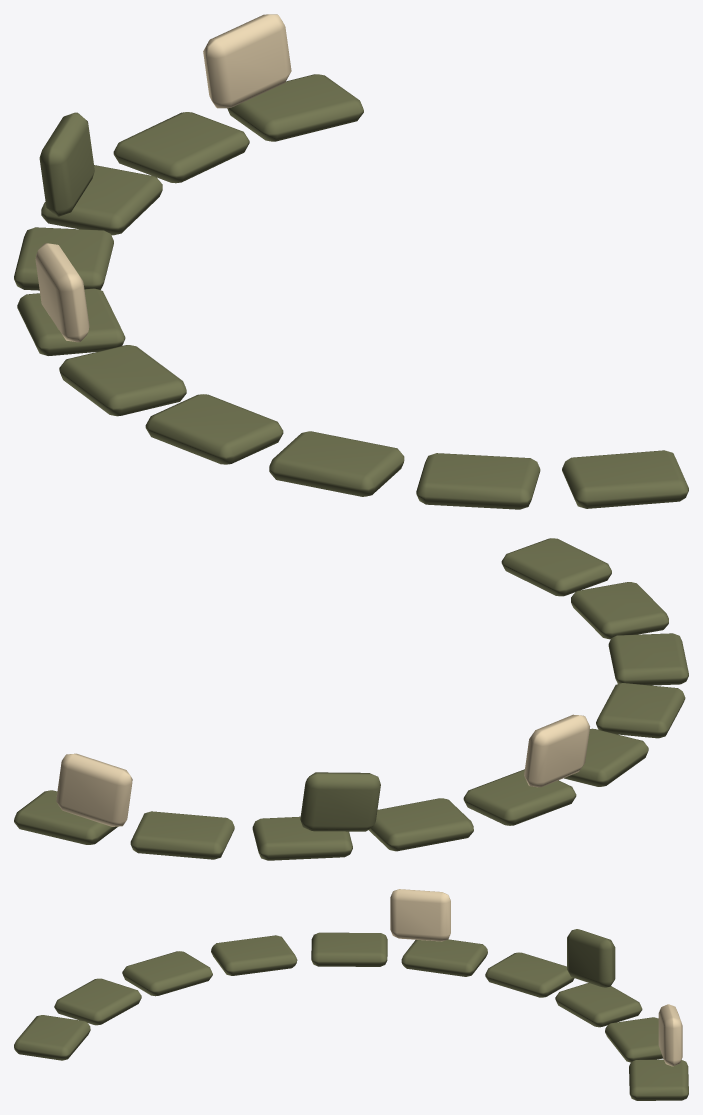
The picture shows the model from 3 angles, top to bottom: view 1: azimuth 30°, elevation 25°; view 2: azimuth 150°, elevation 25°; view 3: azimuth 270°, elevation 25°; orthographic projection. The views are drawn at different scales.
Visible parts, largest first — view 1: Mesh_MossCushion_3, Mesh_MossCushion_2, Mesh_MossCushion_8, Mesh_LinenPillow_2, Mesh_MossCushion_1, Mesh_MossCushion_0, Mesh_MossCushion_4, Mesh_MossCushion_9, Mesh_MossCushion_7, Mesh_LinenPillow_1, Mesh_MossCushion_6, Mesh_MossCushion_5 (+1 smaller); view 2: Mesh_LinenPillow_1, Mesh_LinenPillow_2, Mesh_MossCushion_0, Mesh_MossCushion_8, Mesh_MossCushion_6, Mesh_MossCushion_1, Mesh_MossCushion_3, Mesh_MossCushion_5, Mesh_MossCushion_2, Mesh_LinenPillow_0, Mesh_MossCushion_7, Mesh_MossCushion_9 (+1 smaller); view 3: Mesh_LinenPillow_0, Mesh_MossCushion_2, Mesh_MossCushion_3, Mesh_MossCushion_1, Mesh_MossCushion_6, Mesh_MossCushion_4, Mesh_MossCushion_7, Mesh_MossCushion_5, Mesh_MossCushion_0, Mesh_LinenPillow_1, Mesh_MossCushion_9, Mesh_MossCushion_8 (+1 smaller).
Boxes of the visible parts, x1=… form: Mesh_MossCushion_3: x1=145, y1=394, x2=283, y2=464; Mesh_MossCushion_2: x1=269, y1=431, x2=404, y2=496; Mesh_MossCushion_8: x1=113, y1=112, x2=249, y2=183; Mesh_LinenPillow_2: x1=203, y1=14, x2=291, y2=108; Mesh_MossCushion_1: x1=416, y1=453, x2=540, y2=509; Mesh_MossCushion_0: x1=562, y1=450, x2=688, y2=508; Mesh_MossCushion_4: x1=59, y1=345, x2=186, y2=416; Mesh_MossCushion_9: x1=227, y1=74, x2=363, y2=141; Mesh_MossCushion_7: x1=41, y1=165, x2=162, y2=235; Mesh_LinenPillow_1: x1=39, y1=112, x2=94, y2=216; Mesh_MossCushion_6: x1=14, y1=227, x2=113, y2=290; Mesh_MossCushion_5: x1=17, y1=288, x2=125, y2=355; Mesh_LinenPillow_1: x1=300, y1=772, x2=380, y2=831; Mesh_LinenPillow_2: x1=56, y1=753, x2=132, y2=826; Mesh_MossCushion_0: x1=501, y1=538, x2=611, y2=596; Mesh_MossCushion_8: x1=130, y1=811, x2=234, y2=859; Mesh_MossCushion_6: x1=369, y1=798, x2=473, y2=851; Mesh_MossCushion_1: x1=571, y1=582, x2=668, y2=639; Mesh_MossCushion_3: x1=596, y1=683, x2=685, y2=738; Mesh_MossCushion_5: x1=463, y1=769, x2=576, y2=825; Mesh_MossCushion_2: x1=608, y1=633, x2=688, y2=685; Mesh_LinenPillow_0: x1=524, y1=714, x2=589, y2=787; Mesh_MossCushion_7: x1=252, y1=816, x2=352, y2=860; Mesh_MossCushion_9: x1=14, y1=790, x2=117, y2=844; Mesh_LinenPillow_0: x1=390, y1=889, x2=450, y2=941; Mesh_MossCushion_2: x1=122, y1=951, x2=212, y2=996; Mesh_MossCushion_3: x1=211, y1=935, x2=297, y2=975; Mesh_MossCushion_1: x1=54, y1=978, x2=141, y2=1025; Mesh_MossCushion_6: x1=485, y1=952, x2=574, y2=997; Mesh_MossCushion_4: x1=311, y1=932, x2=387, y2=966; Mesh_MossCushion_7: x1=555, y1=983, x2=642, y2=1027; Mesh_MossCushion_5: x1=401, y1=939, x2=487, y2=976; Mesh_MossCushion_0: x1=14, y1=1015, x2=90, y2=1060; Mesh_LinenPillow_1: x1=567, y1=929, x2=615, y2=987; Mesh_MossCushion_9: x1=629, y1=1059, x2=688, y2=1100; Mesh_MossCushion_8: x1=605, y1=1017, x2=663, y2=1062.
Bounding box in the file's own units: 4.26 × 0.8169 × 7.63.
